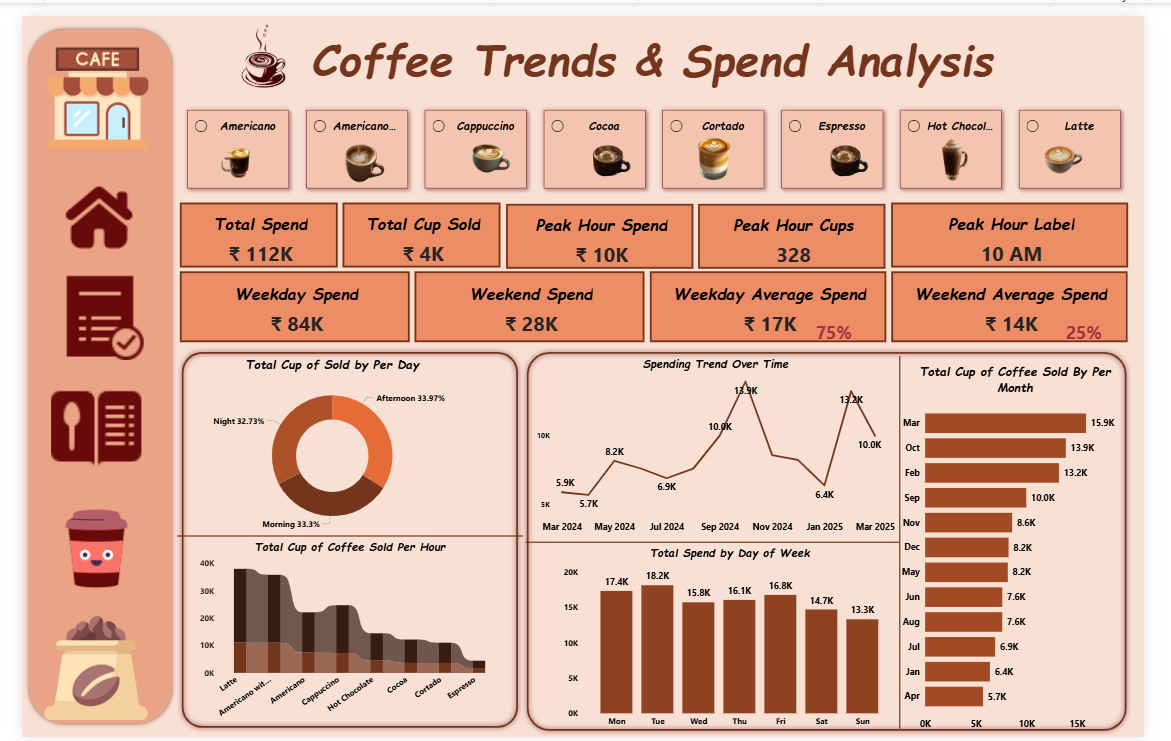

This screenshot's page, from the dashboard's own definition file:
{"tool":"powerbi","page":{"name":"Page 1","canvas":[1869,1202],"ordinal":0},"visuals":[{"type":"textbox","box":[476.3,15.8,1373.7,123.7],"z":0},{"type":"cardVisual","fields":{"Data":["coffee_data.Total_Spend","coffee_data.Total_Cup_Sold"]},"box":[257.9,305.3,544.7,118.4],"z":1000},{"type":"cardVisual","fields":{"Data":["coffee_data.Peak_Hour_Spend","coffee_data.Peak_Hour_Cups"]},"box":[802.6,307.9,642.1,118.4],"z":2000},{"type":"cardVisual","fields":{"Data":["coffee_data.Peak_Hour_Label"]},"box":[1444.7,305.3,405.3,118.4],"z":3000},{"type":"cardVisual","fields":{"Data":["coffee_data.Weekday_Spend","coffee_data.Weekend_Spend"]},"box":[257.9,421.1,784.2,128.9],"z":4000},{"type":"cardVisual","fields":{"Data":["coffee_data.Weekday_Average_Spend","coffee_data.Weekend_Average_Spend"]},"box":[1042.1,421.1,807.9,128.9],"z":5000},{"type":"cardVisual","fields":{"Data":["coffee_data.% Weekend_spend"]},"box":[1723.7,481.6,126.3,68.4],"z":6000},{"type":"cardVisual","fields":{"Data":["coffee_data.% Weekday_spend"]},"box":[1305.3,481.6,126.3,68.4],"z":7000},{"type":"donutChart","title":"Total Cup of Sold by Per Day","fields":{"Y":["coffee_data.Total_Cup_Sold"],"Category":["coffee_data.Time_of_Day"]},"box":[292.7,565.9,451.2,304.9],"z":8000},{"type":"ribbonChart","title":"Total Cup of Coffee Sold Per Hour","fields":{"Category":["coffee_data.coffee_name"],"Y":["Sum(coffee_data.hour_of_day)","Sum(coffee_data.money(Rs))"]},"box":[292.7,870.7,509.8,312.2],"z":9000},{"type":"lineChart","title":"Spending Trend Over Time","fields":{"Y":["Sum(coffee_data.money(Rs))"],"Category":["coffee_data.Date.Variation.Date Hierarchy.Year","coffee_data.Date.Variation.Date Hierarchy.Quarter","coffee_data.Date.Variation.Date Hierarchy.Month"]},"box":[852.6,565.8,607.9,305.3],"z":10000},{"type":"clusteredColumnChart","title":"Total Spend by Day of Week","fields":{"Category":["coffee_data.Weekday"],"Y":["Sum(coffee_data.money(Rs))"]},"box":[897.4,881.6,563.2,313.2],"z":11000},{"type":"clusteredBarChart","title":"Total Cup of Coffee Sold By Per Month","fields":{"Y":["Sum(coffee_data.money(Rs))"],"Category":["coffee_data.Month_name","coffee_data.coffee_name"]},"box":[1460.5,576.3,389.5,623.7],"z":12000},{"type":"shape","box":[257.9,552.6,576.3,642.1],"z":13000},{"type":"shape","box":[257.9,792.1,576.3,150],"z":14000},{"type":"shape","box":[834.2,552.6,1015.8,647.4],"z":15000},{"type":"shape","box":[839.5,726.3,623.7,300],"z":16000},{"type":"advancedSlicerVisual","title":"coffee name","fields":{"Values":["coffee_data.coffee_name"]},"box":[257.9,139.5,1592.1,165.8],"z":17000},{"type":"image","box":[475,176.9,146.2,130.8],"z":18000},{"type":"shape","box":[4.3,14.9,253.2,1172.3],"z":19000},{"type":"image","box":[247.4,0,300,139.5],"z":21000},{"type":"image","box":[23.7,257.9,210.5,163.2],"z":22000},{"type":"image","box":[39.5,423.7,181.6,155.3],"z":23000},{"type":"image","box":[34.2,607.9,181.6,160.5],"z":24000},{"type":"image","box":[34.2,781.6,181.6,207.9],"z":25000},{"type":"image","box":[0,44.7,252.6,186.8],"z":26000},{"type":"shape","box":[1271.1,565.8,384.2,621.1],"z":26001},{"type":"image","box":[23.7,989.5,200,194.7],"z":26002}]}

Visuals, with their boxes in screenshot pixels (x1, y1, x2, y2), scaled from the page's 1869x1202 canvas onto the 1171x741 screenshot:
textbox: x1=298 y1=10 x2=1159 y2=86
cardVisual - coffee_data.Total_Spend x coffee_data.Total_Cup_Sold: x1=162 y1=188 x2=503 y2=261
cardVisual - coffee_data.Peak_Hour_Spend x coffee_data.Peak_Hour_Cups: x1=503 y1=190 x2=905 y2=263
cardVisual - coffee_data.Peak_Hour_Label: x1=905 y1=188 x2=1159 y2=261
cardVisual - coffee_data.Weekday_Spend x coffee_data.Weekend_Spend: x1=162 y1=260 x2=653 y2=339
cardVisual - coffee_data.Weekday_Average_Spend x coffee_data.Weekend_Average_Spend: x1=653 y1=260 x2=1159 y2=339
cardVisual - coffee_data.% Weekend_spend: x1=1080 y1=297 x2=1159 y2=339
cardVisual - coffee_data.% Weekday_spend: x1=818 y1=297 x2=897 y2=339
"Total Cup of Sold by Per Day" donutChart: x1=183 y1=349 x2=466 y2=537
"Total Cup of Coffee Sold Per Hour" ribbonChart: x1=183 y1=537 x2=503 y2=729
"Spending Trend Over Time" lineChart: x1=534 y1=349 x2=915 y2=537
"Total Spend by Day of Week" clusteredColumnChart: x1=562 y1=543 x2=915 y2=737
"Total Cup of Coffee Sold By Per Month" clusteredBarChart: x1=915 y1=355 x2=1159 y2=740
shape: x1=162 y1=341 x2=523 y2=736
shape: x1=162 y1=488 x2=523 y2=581
shape: x1=523 y1=341 x2=1159 y2=740
shape: x1=526 y1=448 x2=917 y2=633
"coffee name" advancedSlicerVisual: x1=162 y1=86 x2=1159 y2=188
image: x1=298 y1=109 x2=389 y2=190
shape: x1=3 y1=9 x2=161 y2=732
image: x1=155 y1=0 x2=343 y2=86
image: x1=15 y1=159 x2=147 y2=260
image: x1=25 y1=261 x2=139 y2=357
image: x1=21 y1=375 x2=135 y2=474
image: x1=21 y1=482 x2=135 y2=610
image: x1=0 y1=28 x2=158 y2=143
shape: x1=796 y1=349 x2=1037 y2=732
image: x1=15 y1=610 x2=140 y2=730
